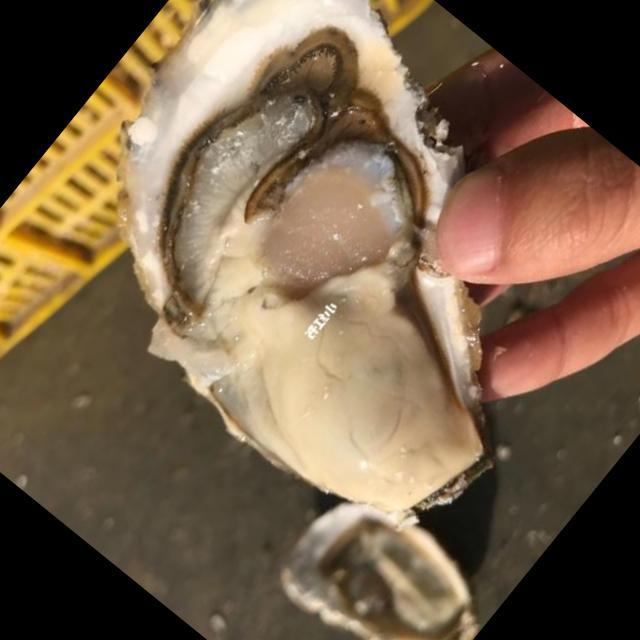Oyster-Open: (0, 0, 640, 582), (254, 461, 510, 640)
